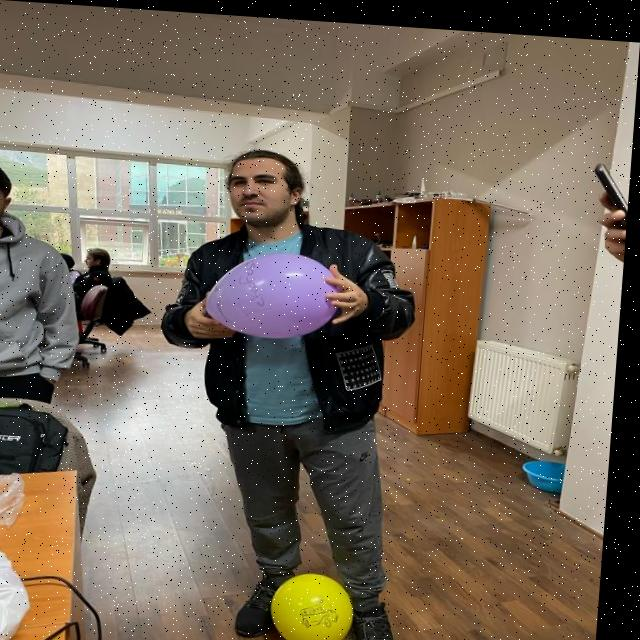balloon: (208, 241, 352, 342), (278, 570, 367, 640)
